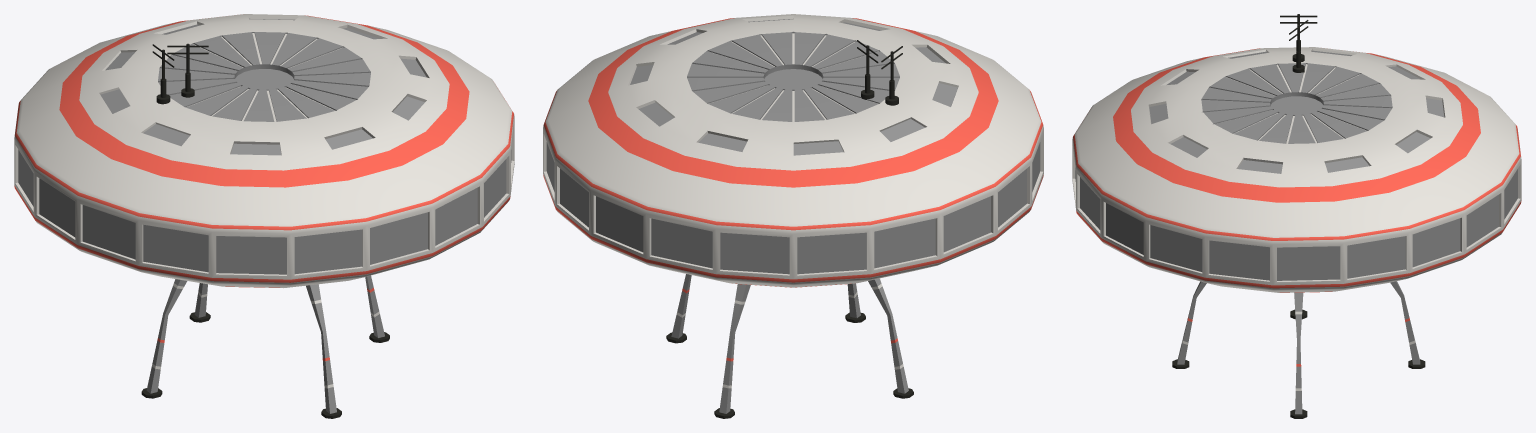
The model's file is 02 Spaceship.FBX.
3 renders of one model, left to right at view 1: azimuth 30°, elevation 25°; view 2: azimuth 150°, elevation 25°; view 3: azimuth 270°, elevation 25°, orthographic. The views are drawn at different scales.
Parts seen in each view (by area): view 1: Cylinder001; view 2: Cylinder001; view 3: Cylinder001.
Boxes of the visible parts, x1=… form: Cylinder001: x1=14, y1=14, x2=514, y2=418; Cylinder001: x1=543, y1=14, x2=1043, y2=418; Cylinder001: x1=1072, y1=14, x2=1521, y2=418.
Bounding box in the file's own units: 7956 × 5983 × 7956.
